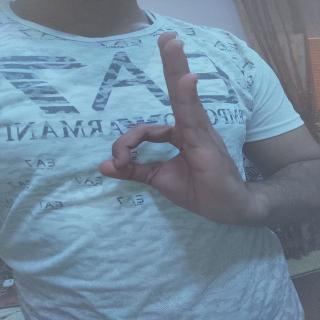Space: (98, 24, 248, 247)
